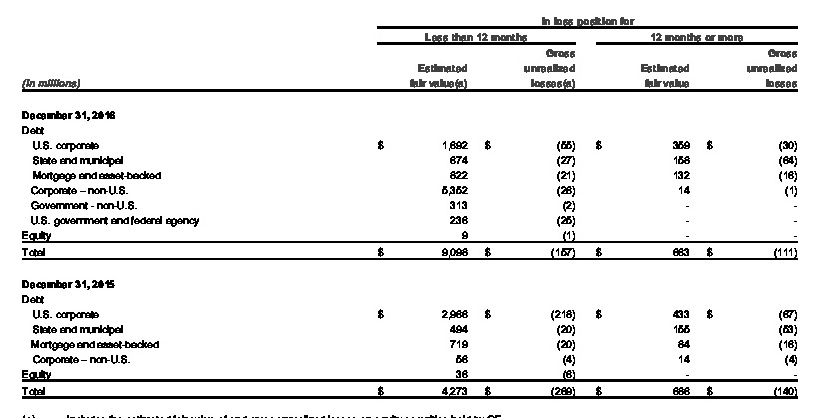table: (0, 0, 823, 418)
